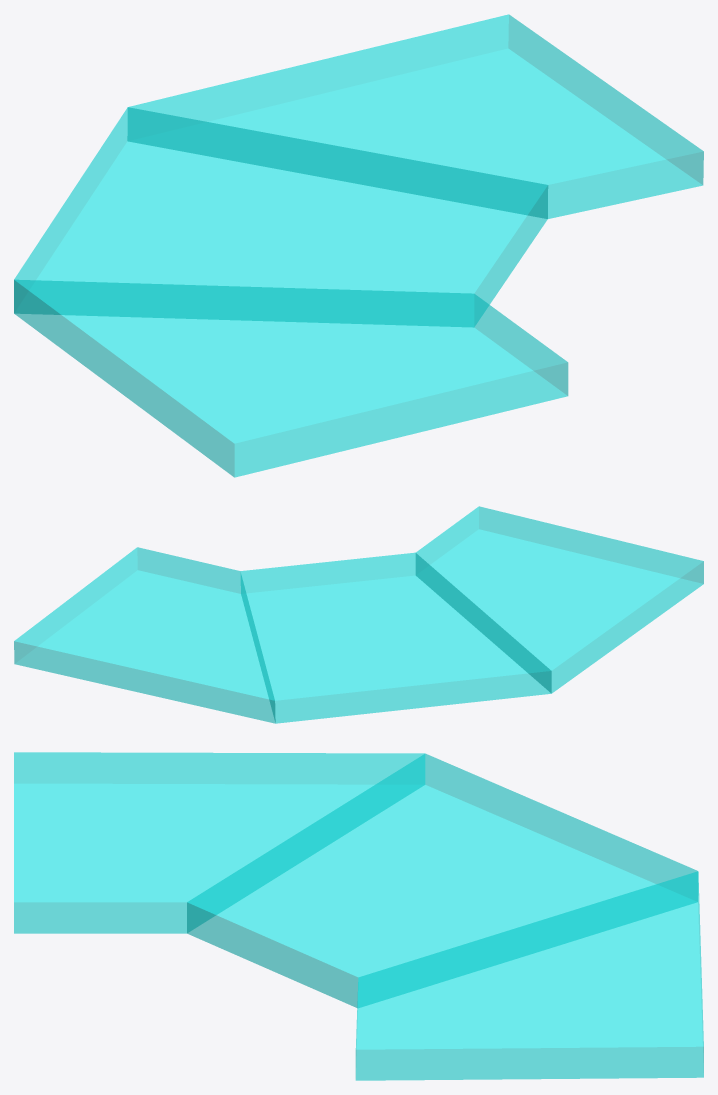
File: SM_Bld_Platform_Metal_Corner_01_Collision.fbx
The picture shows the model from 3 angles, top to bottom: view 1: azimuth 30°, elevation 25°; view 2: azimuth 150°, elevation 25°; view 3: azimuth 270°, elevation 25°; orthographic projection. The views are drawn at different scales.
Visible parts, largest first — view 1: SM_Bld_Platform_Metal_Corner_01_Collision; view 2: SM_Bld_Platform_Metal_Corner_01_Collision; view 3: SM_Bld_Platform_Metal_Corner_01_Collision.
Boxes of the visible parts, bbox=[...] form: SM_Bld_Platform_Metal_Corner_01_Collision: bbox=[14, 14, 703, 477]; SM_Bld_Platform_Metal_Corner_01_Collision: bbox=[14, 506, 703, 723]; SM_Bld_Platform_Metal_Corner_01_Collision: bbox=[14, 752, 703, 1080].
Size of the model in its own units: 514 by 27.99 by 509.
